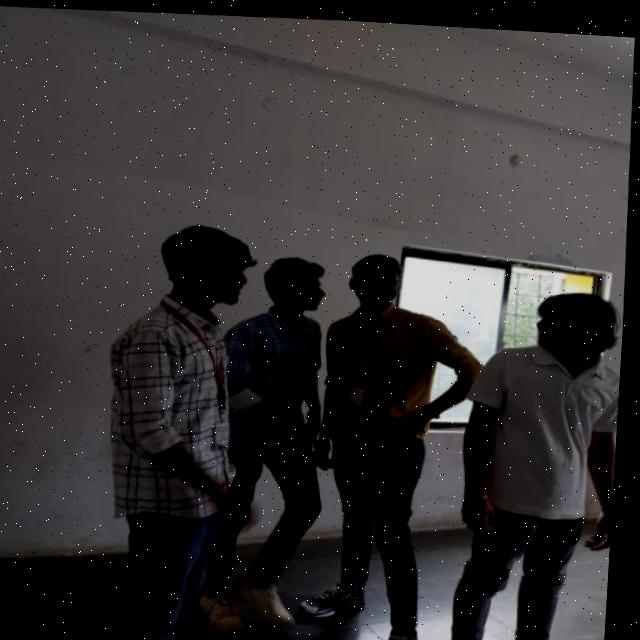id_card: (160, 293, 253, 454), (341, 307, 392, 411)
